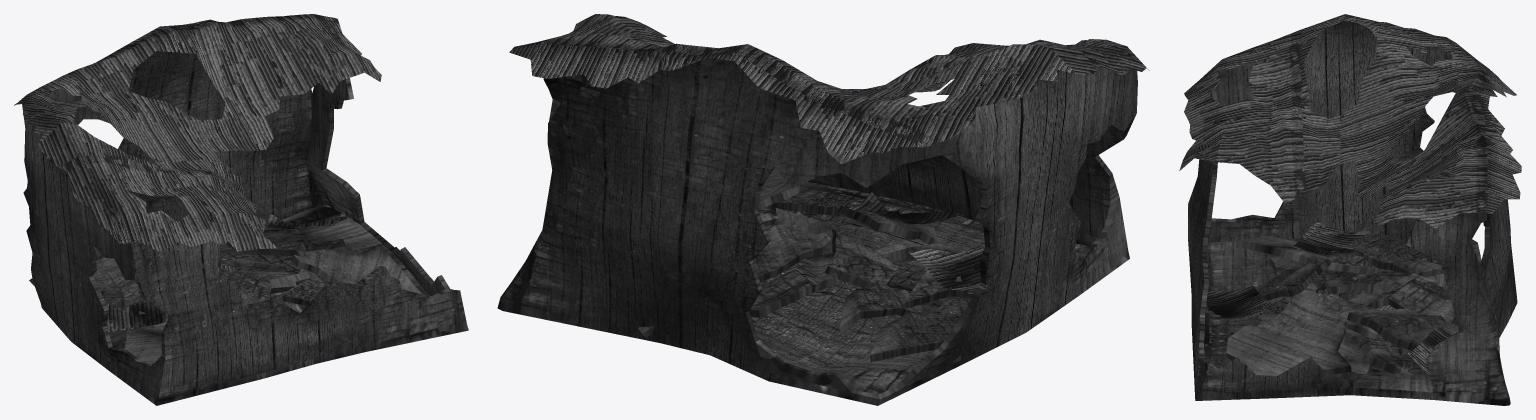
Rendered from SM_Shack.fbx.
The picture shows the model from 3 angles, left to right: view 1: azimuth 30°, elevation 25°; view 2: azimuth 150°, elevation 25°; view 3: azimuth 270°, elevation 25°; orthographic projection. The views are drawn at different scales.
Visible parts, largest first — view 1: Cube.013, Cube.016; view 2: Cube.013, Cube.016; view 3: Cube.013.
Part boxes in pixels (x1,y1,x2,y2): Cube.013: (14, 14, 468, 405); Cube.016: (267, 272, 309, 293); Cube.013: (497, 14, 1149, 405); Cube.016: (775, 208, 840, 262); Cube.013: (1179, 14, 1521, 405).
Size of the model in its own units: 847 by 587 by 684.
